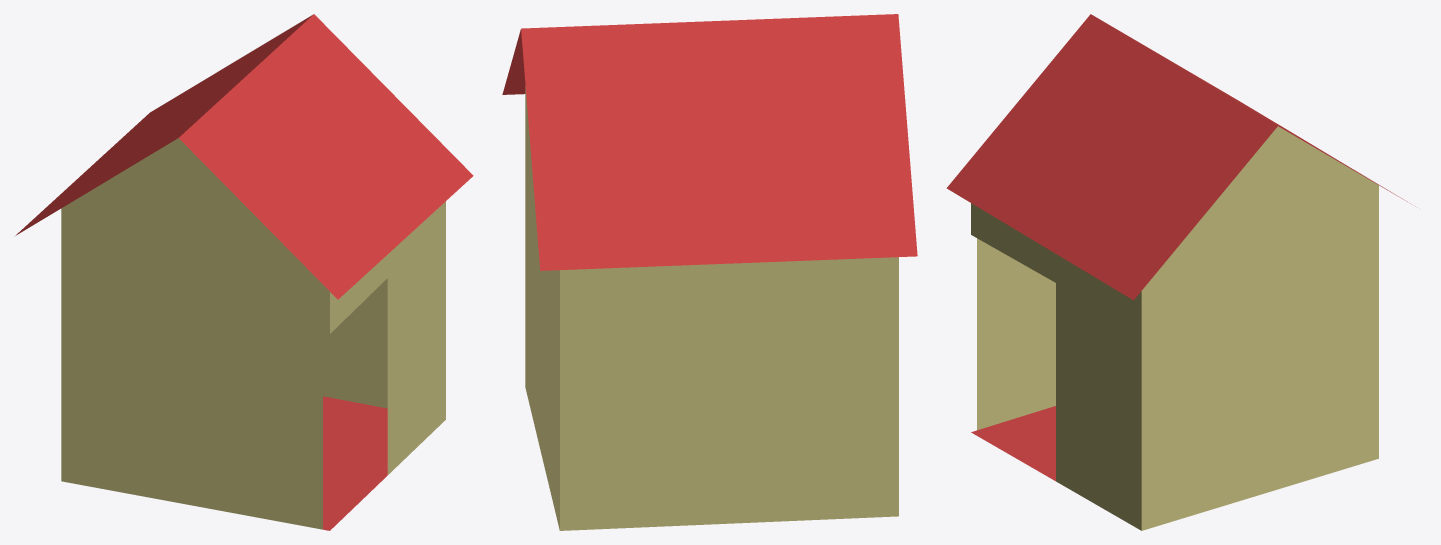
3 views of the same model, side by side, from view 1: azimuth 30°, elevation 25°; view 2: azimuth 150°, elevation 25°; view 3: azimuth 270°, elevation 25° (orthographic). The views are drawn at different scales.
Bounding box in the file's own units: 14.6 × 14.85 × 12.74.
